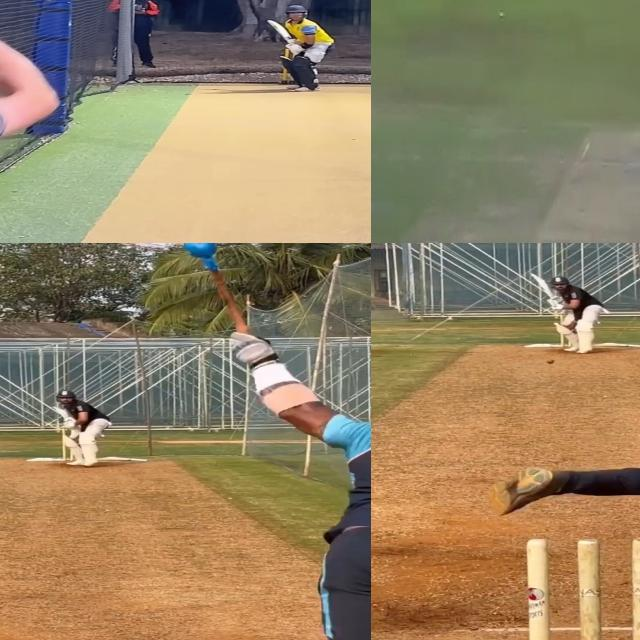Cricket ball: (546, 359, 555, 364)
Stumps: (522, 537, 640, 640)
